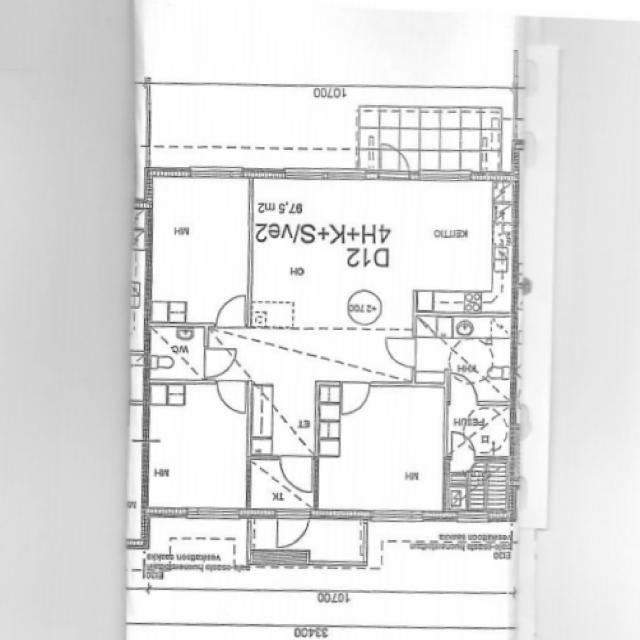door: (144, 330, 243, 382), (270, 506, 313, 554), (274, 451, 318, 496), (380, 330, 420, 374), (199, 340, 242, 380), (212, 290, 252, 330), (214, 378, 251, 418), (338, 379, 374, 418), (376, 144, 413, 180)
window: (280, 164, 371, 183), (366, 505, 431, 526), (186, 161, 246, 181), (415, 167, 478, 186), (182, 502, 240, 522)
zone: (244, 178, 510, 316), (314, 382, 448, 515), (144, 171, 252, 326), (142, 378, 250, 512), (141, 511, 253, 580), (444, 361, 514, 468), (415, 314, 518, 385), (445, 460, 514, 533), (146, 324, 210, 384)
